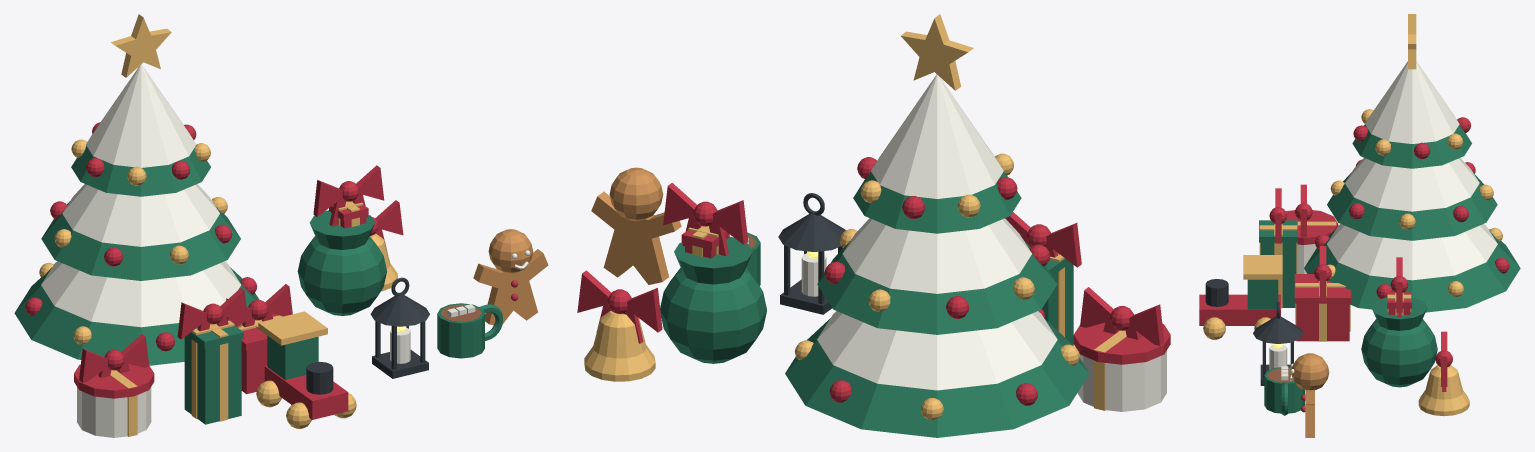
File: christmas-village-christmas-gift-corner-530bc853__19776.glb
3 renders of one model, left to right at view 1: azimuth 30°, elevation 25°; view 2: azimuth 150°, elevation 25°; view 3: azimuth 270°, elevation 25°, orthographic. The views are drawn at different scales.
Visible parts, largest first — view 1: 000-star-topped-tree/2, 000-star-topped-tree/12, 000-star-topped-tree/22, 000-star-topped-tree/11, 000-star-topped-tree/1, 005-gift-sack/0, 002-tall-gift/0, 000-star-topped-tree/21, 008-gingerbread-person/0, 003-round-hatbox-gift/0, 004-toy-train/0, 007-hot-cocoa-mug/0 (+25 smaller); view 2: 000-star-topped-tree/1, 000-star-topped-tree/2, 000-star-topped-tree/12, 000-star-topped-tree/22, 000-star-topped-tree/11, 005-gift-sack/0, 000-star-topped-tree/21, 008-gingerbread-person/0, 009-brass-bell/0, 003-round-hatbox-gift/0, 000-star-topped-tree/31, 003-round-hatbox-gift/1 (+14 smaller); view 3: 000-star-topped-tree/2, 000-star-topped-tree/1, 000-star-topped-tree/12, 000-star-topped-tree/22, 000-star-topped-tree/11, 005-gift-sack/0, 001-square-gift/0, 000-star-topped-tree/21, 009-brass-bell/0, 004-toy-train/0, 008-gingerbread-person/1, 002-tall-gift/0 (+15 smaller).
Part boxes in pixels (x1=…): 000-star-topped-tree/2: x1=41, y1=261, x2=240, y2=327; 000-star-topped-tree/12: x1=62, y1=184, x2=219, y2=246; 000-star-topped-tree/22: x1=86, y1=64, x2=196, y2=167; 000-star-topped-tree/11: x1=41, y1=201, x2=240, y2=280; 000-star-topped-tree/1: x1=14, y1=267, x2=258, y2=365; 005-gift-sack/0: x1=297, y1=236, x2=386, y2=315; 002-tall-gift/0: x1=184, y1=335, x2=241, y2=424; 000-star-topped-tree/21: x1=71, y1=145, x2=210, y2=196; 008-gingerbread-person/0: x1=473, y1=249, x2=548, y2=325; 003-round-hatbox-gift/0: x1=77, y1=387, x2=151, y2=437; 004-toy-train/0: x1=264, y1=365, x2=348, y2=419; 007-hot-cocoa-mug/0: x1=437, y1=303, x2=484, y2=358; 000-star-topped-tree/1: x1=785, y1=318, x2=1089, y2=437; 000-star-topped-tree/2: x1=817, y1=311, x2=1057, y2=390; 000-star-topped-tree/12: x1=842, y1=218, x2=1031, y2=293; 000-star-topped-tree/22: x1=871, y1=74, x2=1003, y2=198; 000-star-topped-tree/11: x1=817, y1=239, x2=1057, y2=334; 005-gift-sack/0: x1=660, y1=267, x2=766, y2=363; 000-star-topped-tree/21: x1=853, y1=171, x2=1021, y2=233; 008-gingerbread-person/0: x1=591, y1=191, x2=681, y2=284; 009-brass-bell/0: x1=584, y1=310, x2=655, y2=381; 003-round-hatbox-gift/0: x1=1077, y1=350, x2=1166, y2=411; 000-star-topped-tree/31: x1=901, y1=14, x2=973, y2=90; 003-round-hatbox-gift/1: x1=1073, y1=322, x2=1170, y2=364; 000-star-topped-tree/2: x1=1327, y1=224, x2=1497, y2=280; 000-star-topped-tree/1: x1=1304, y1=229, x2=1520, y2=312; 000-star-topped-tree/12: x1=1345, y1=158, x2=1479, y2=211; 000-star-topped-tree/22: x1=1365, y1=61, x2=1459, y2=143; 000-star-topped-tree/11: x1=1327, y1=172, x2=1497, y2=240; 005-gift-sack/0: x1=1361, y1=319, x2=1437, y2=387; 001-square-gift/0: x1=1296, y1=274, x2=1349, y2=341; 000-star-topped-tree/21: x1=1352, y1=124, x2=1471, y2=168; 009-brass-bell/0: x1=1418, y1=365, x2=1469, y2=416; 004-toy-train/0: x1=1199, y1=294, x2=1280, y2=325; 008-gingerbread-person/1: x1=1291, y1=353, x2=1329, y2=390; 002-tall-gift/0: x1=1260, y1=242, x2=1296, y2=307.
Bounding box in the file's own units: 3.64 × 2.5 × 2.52.
